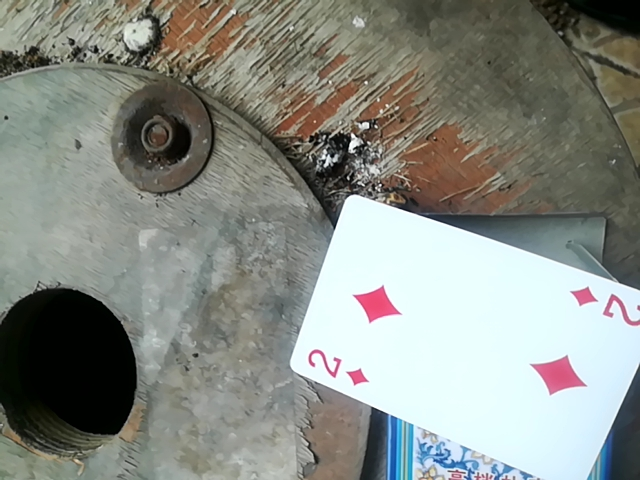fk 2: (285, 196, 640, 480)
